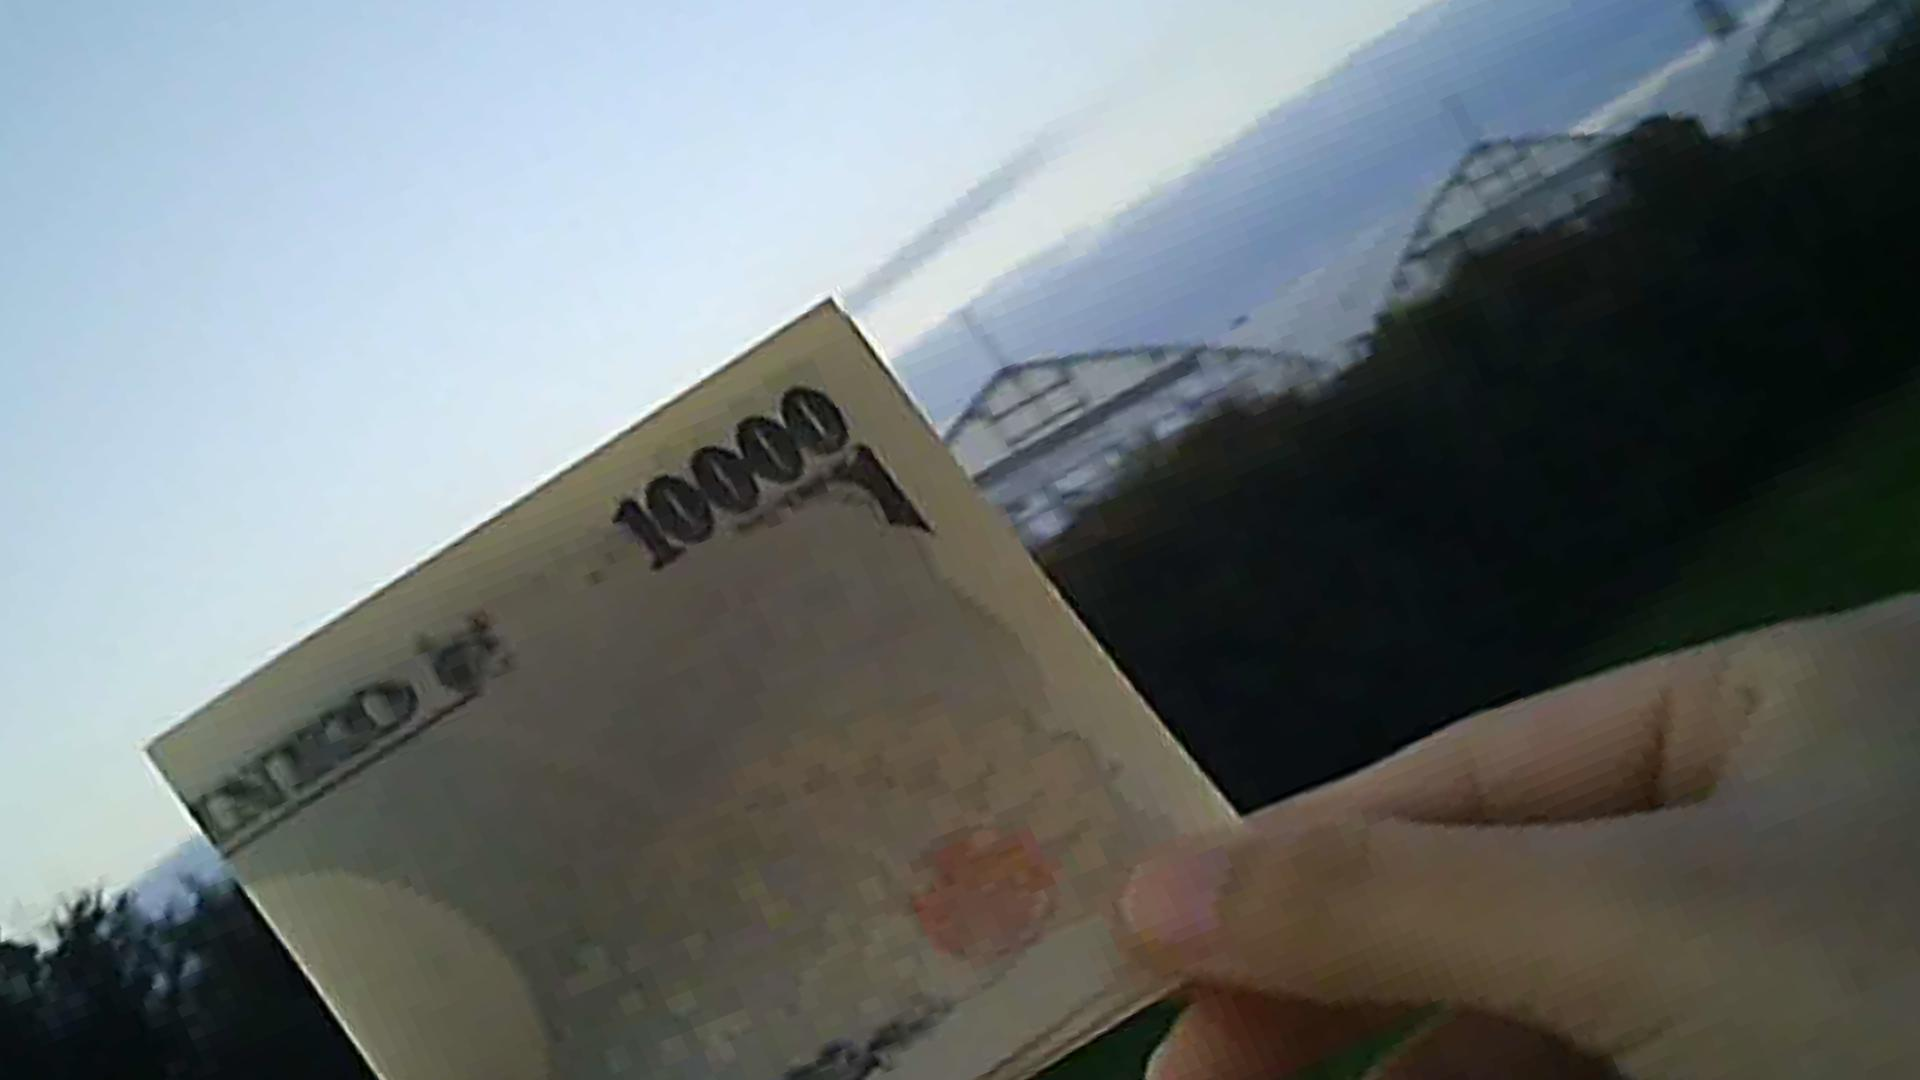10,000 Yen: (164, 266, 1209, 1079)
